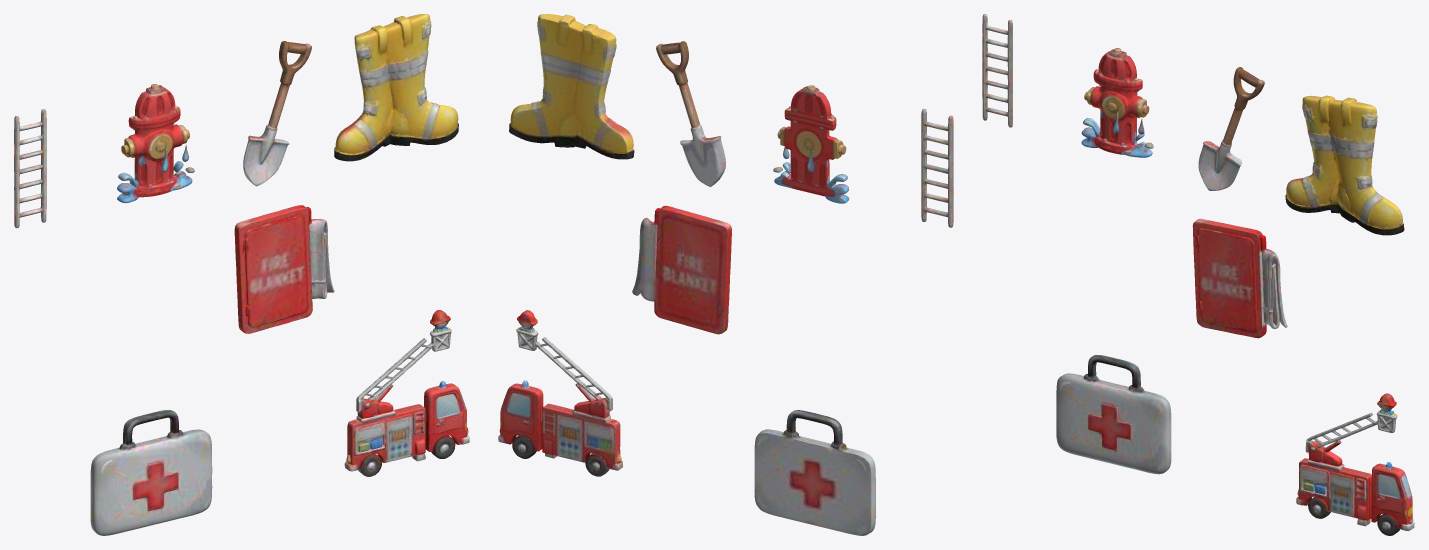
The picture shows the model from 3 angles, left to right: view 1: azimuth 30°, elevation 25°; view 2: azimuth 150°, elevation 25°; view 3: azimuth 330°, elevation 25°; orthographic projection. The views are drawn at different scales.
Parts seen in each view (by area): view 1: Mesh 4, Mesh 13, Mesh 11, Mesh 17, Mesh 9, Mesh 12, Mesh 3; view 2: Mesh 4, Mesh 13, Mesh 11, Mesh 17, Mesh 9, Mesh 12, Mesh 3; view 3: Mesh 4, Mesh 13, Mesh 11, Mesh 17, Mesh 9, Mesh 12, Mesh 3.
Part boxes in pixels (x1=…): Mesh 4: x1=90, y1=410, x2=212, y2=535; Mesh 13: x1=334, y1=14, x2=458, y2=161; Mesh 11: x1=234, y1=205, x2=334, y2=333; Mesh 17: x1=344, y1=310, x2=469, y2=476; Mesh 9: x1=117, y1=84, x2=194, y2=203; Mesh 12: x1=243, y1=41, x2=311, y2=186; Mesh 3: x1=14, y1=109, x2=46, y2=228; Mesh 4: x1=754, y1=410, x2=875, y2=535; Mesh 13: x1=509, y1=14, x2=634, y2=159; Mesh 11: x1=632, y1=205, x2=731, y2=334; Mesh 17: x1=498, y1=310, x2=622, y2=476; Mesh 9: x1=773, y1=85, x2=849, y2=203; Mesh 12: x1=656, y1=41, x2=725, y2=186; Mesh 3: x1=921, y1=108, x2=953, y2=227; Mesh 4: x1=1056, y1=355, x2=1171, y2=474; Mesh 13: x1=1285, y1=95, x2=1404, y2=235; Mesh 11: x1=1192, y1=218, x2=1287, y2=338; Mesh 17: x1=1296, y1=393, x2=1414, y2=535; Mesh 9: x1=1081, y1=48, x2=1153, y2=157; Mesh 12: x1=1198, y1=67, x2=1264, y2=190; Mesh 3: x1=982, y1=14, x2=1012, y2=127.
Bounding box in the file's own units: 1.71 × 1.64 × 0.0605.
7 materials, 7 textured.
